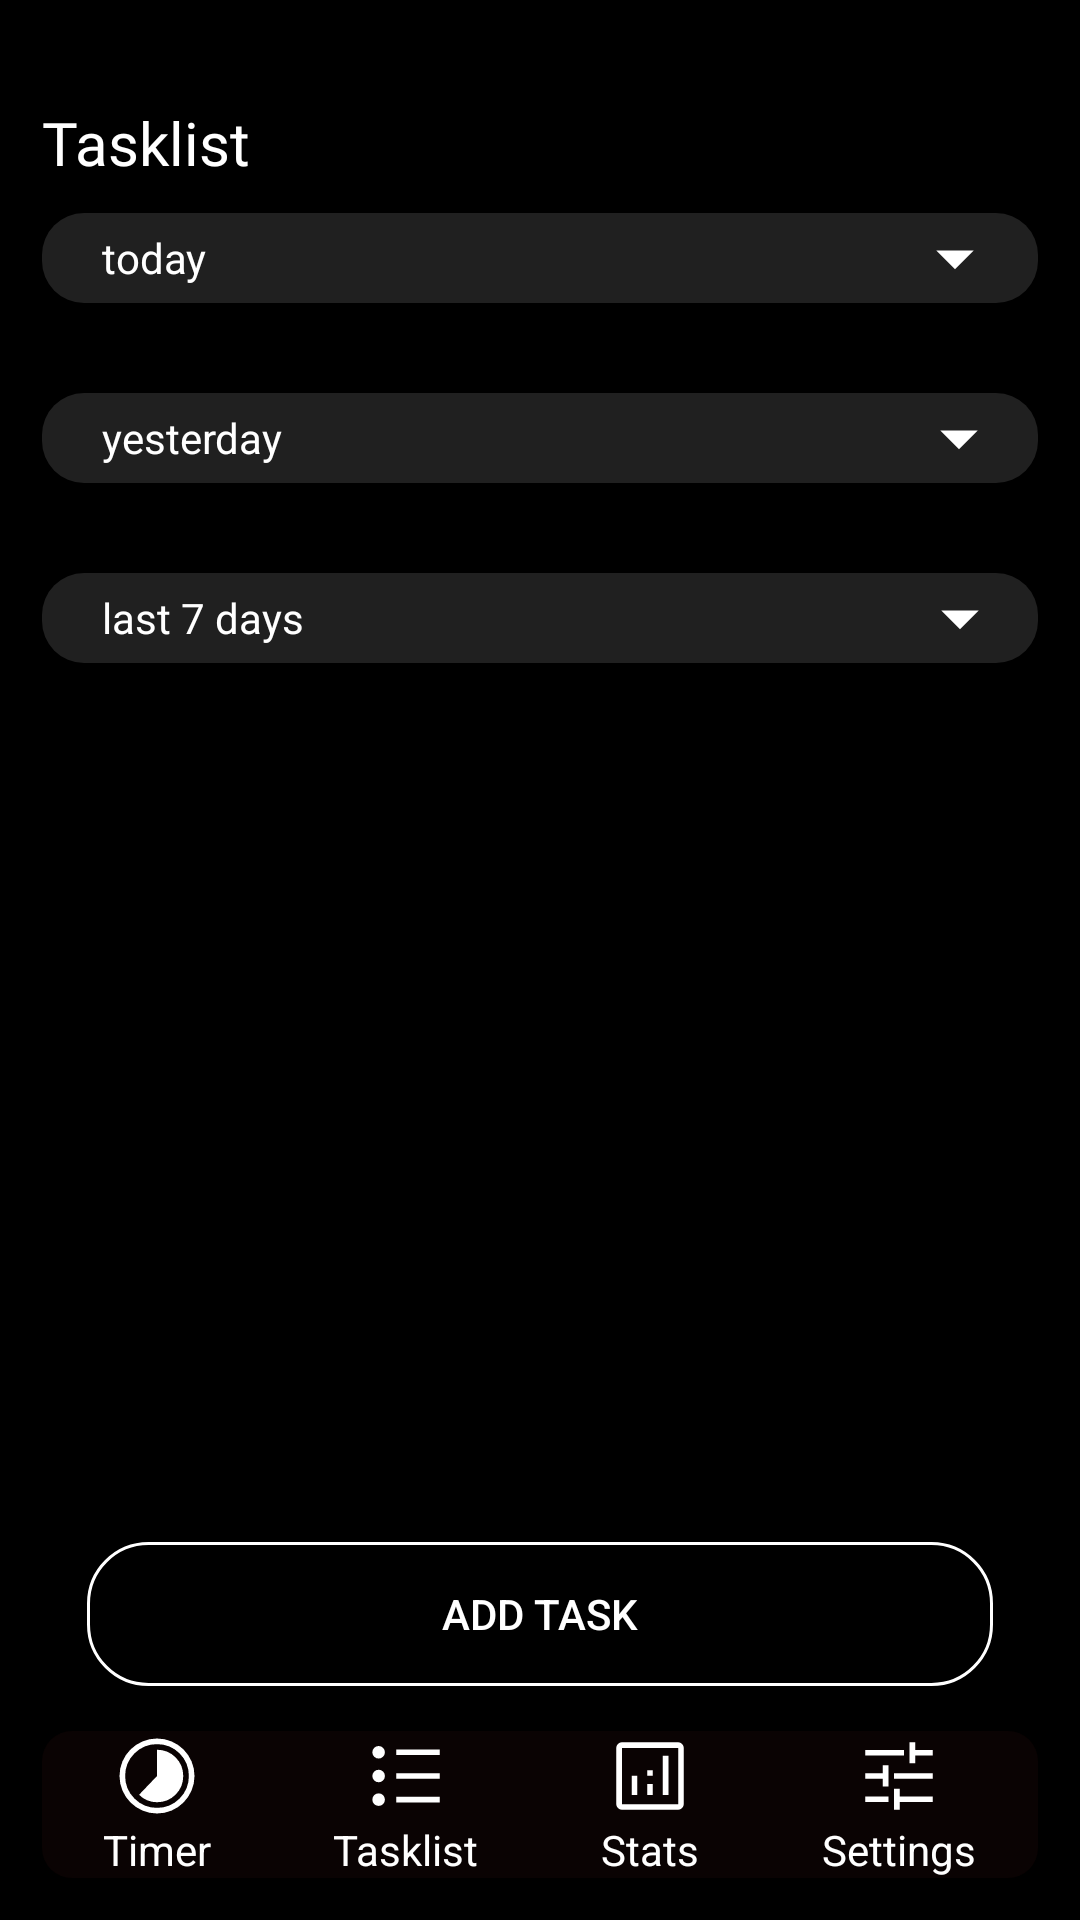

Named icons in this screenshot (1080px x 1920px) and their centers, point (x, y):
arrow down task list: point (955, 258), point (959, 438), point (960, 618)
format list bulleted: point (406, 1776)
timelapse: point (157, 1776)
tune: point (899, 1776)
